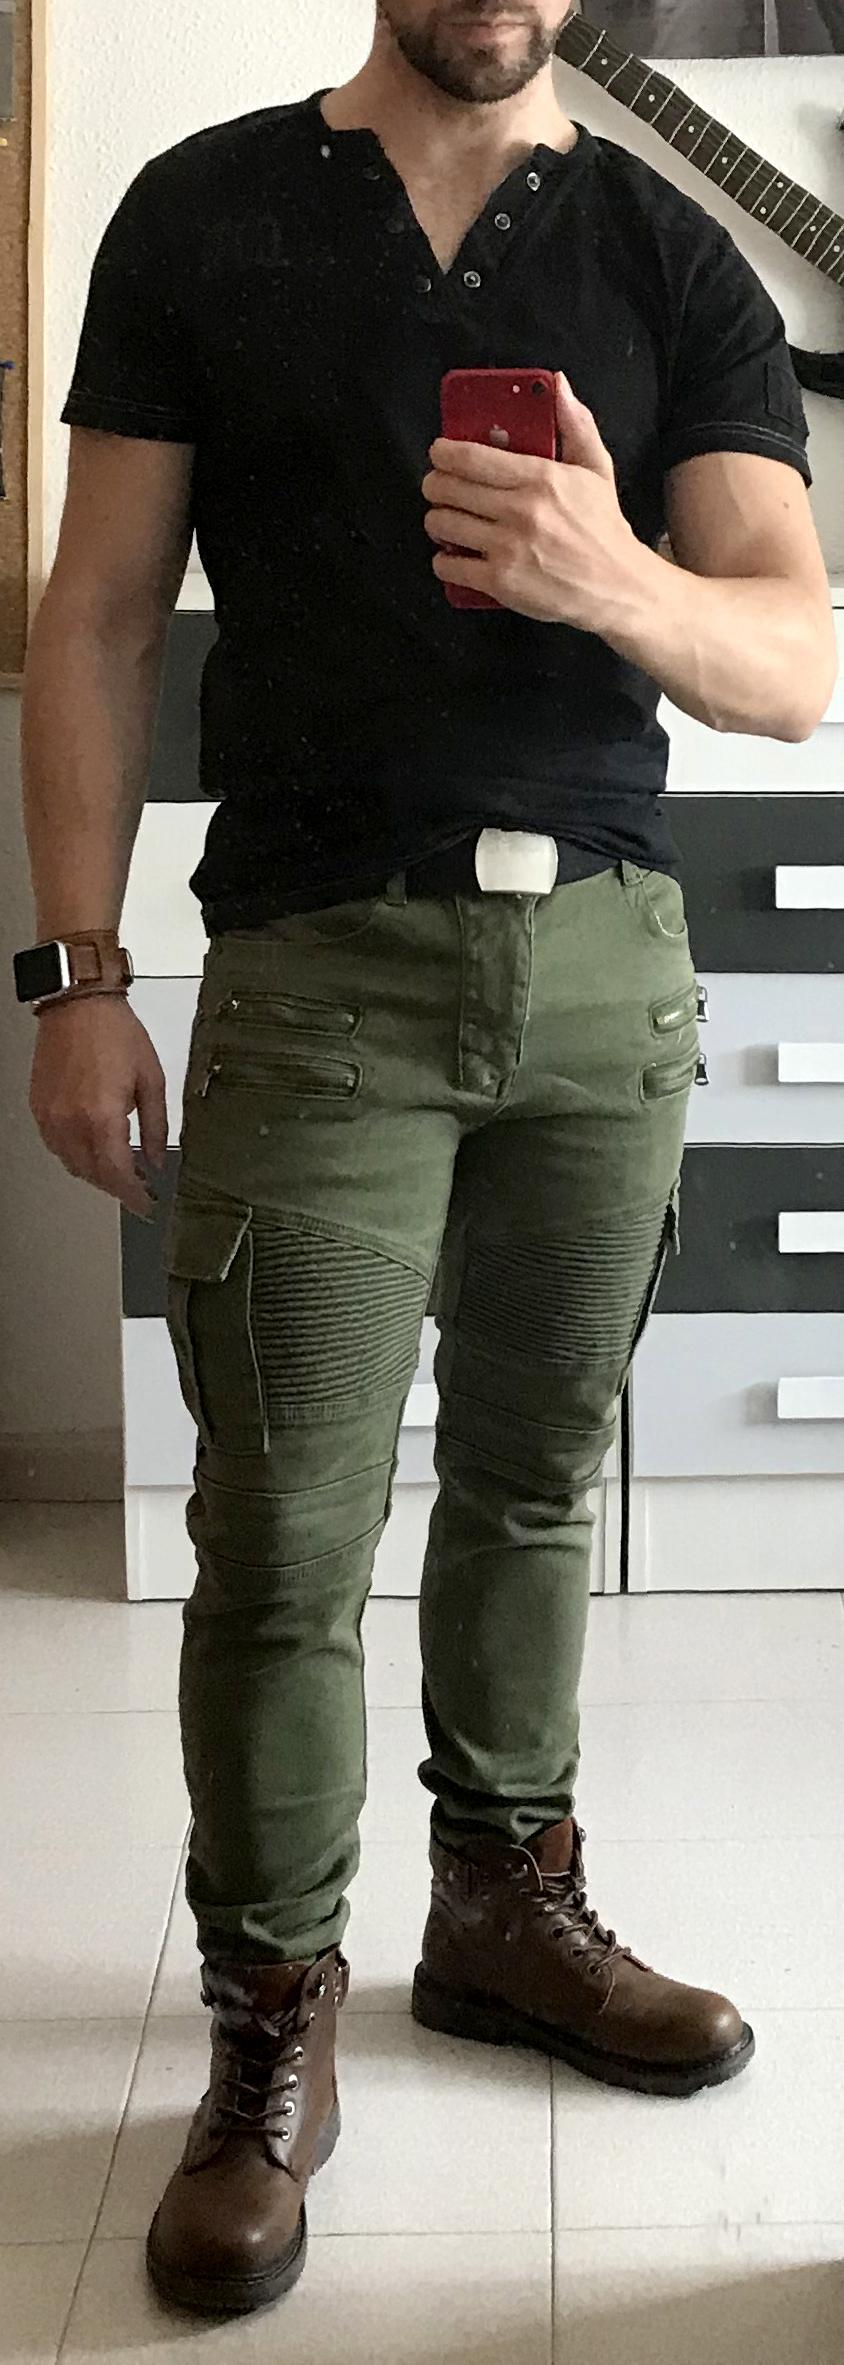jeans: (119, 854, 713, 1943)
